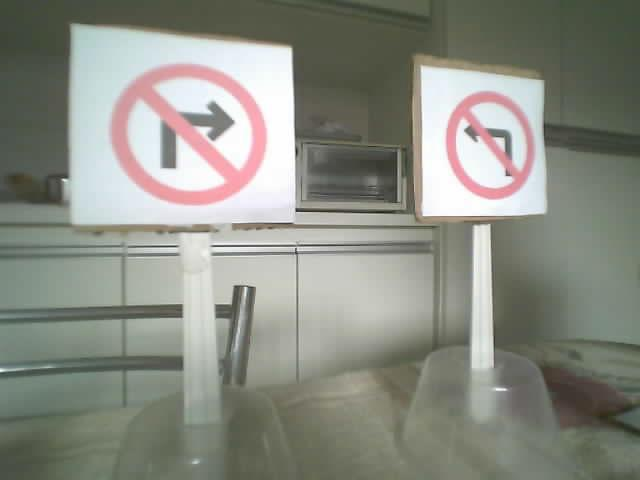R-4a_proibido-esquerda: (444, 90, 534, 198)
R-4b_proibido-direita: (110, 61, 267, 204)
